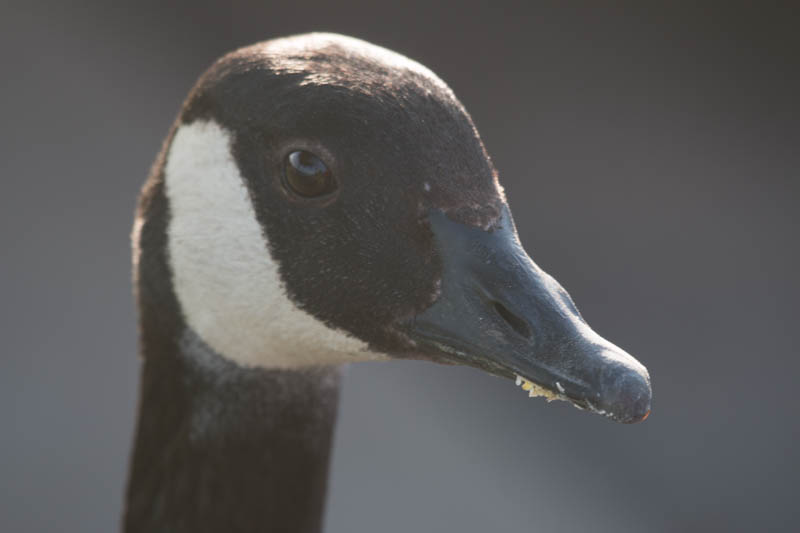goose-head: (134, 31, 654, 426)
